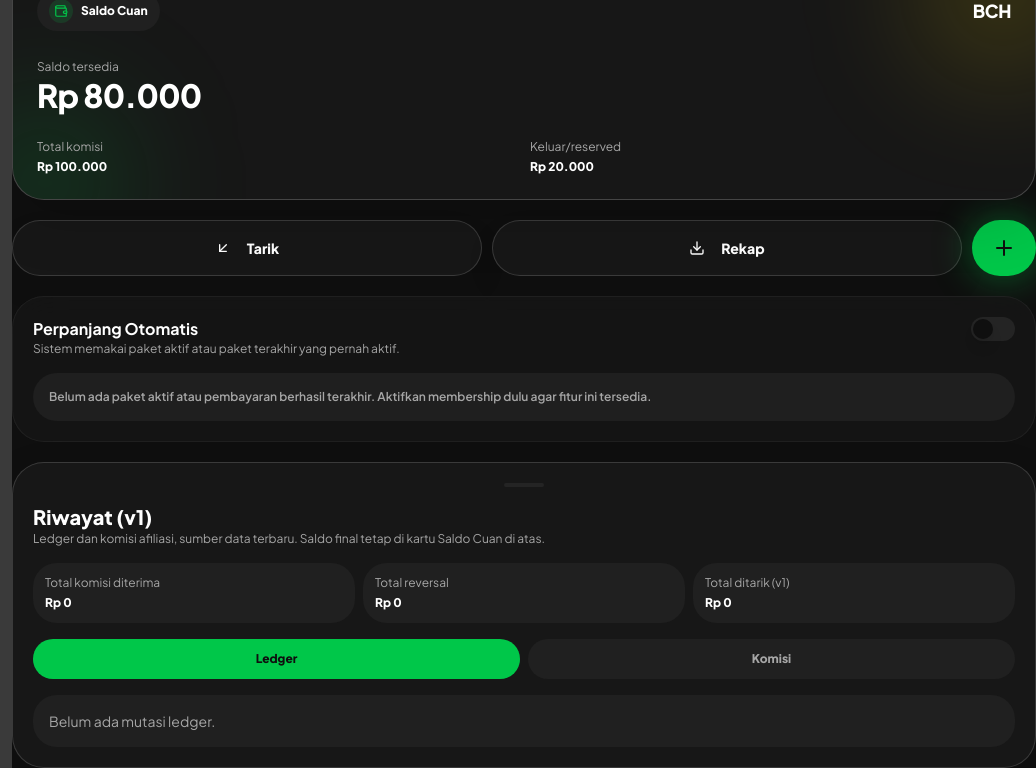
Scenario: Wallet page › switches to the Komisi tab and renders v1 commission data
(page scrolled)
Expected: the text "Belum ada mutasi ledger." is shown, [33,695,1015,747]
Click the button with test id "wallet-v1-tab-komisi" at (772,659), box [528,639,1015,679]
(page scrolled)
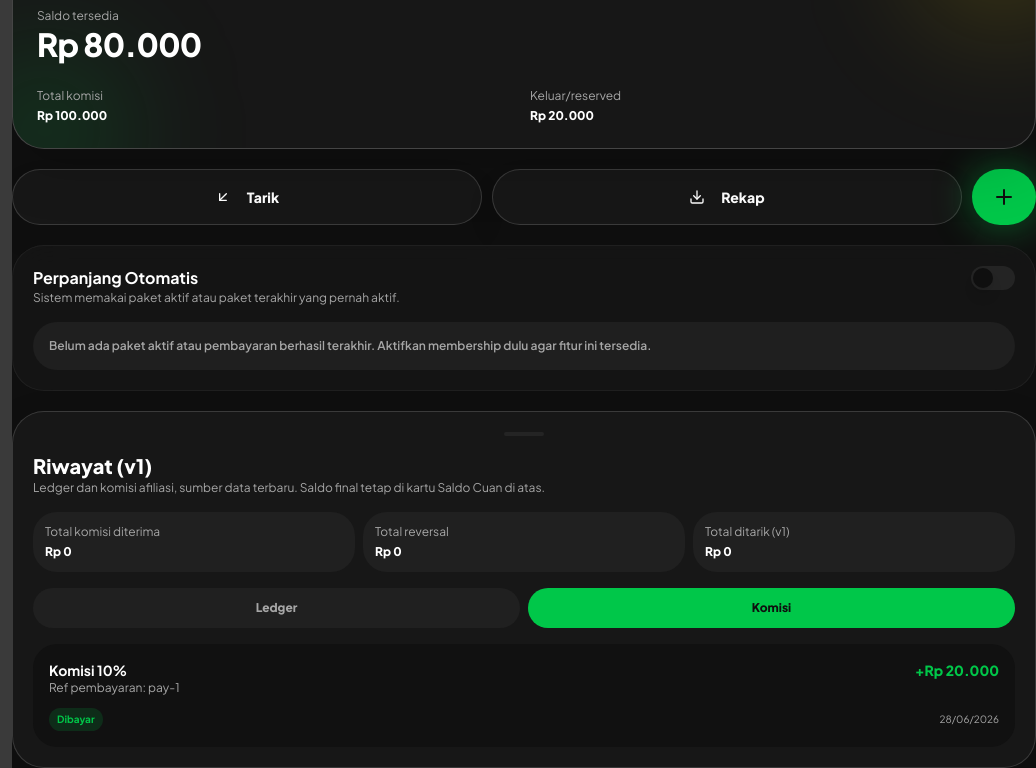
Expected: the element with test id "wallet-v1-komisi-item-comm-1" shows "Dibayar", [57,713,95,725]
